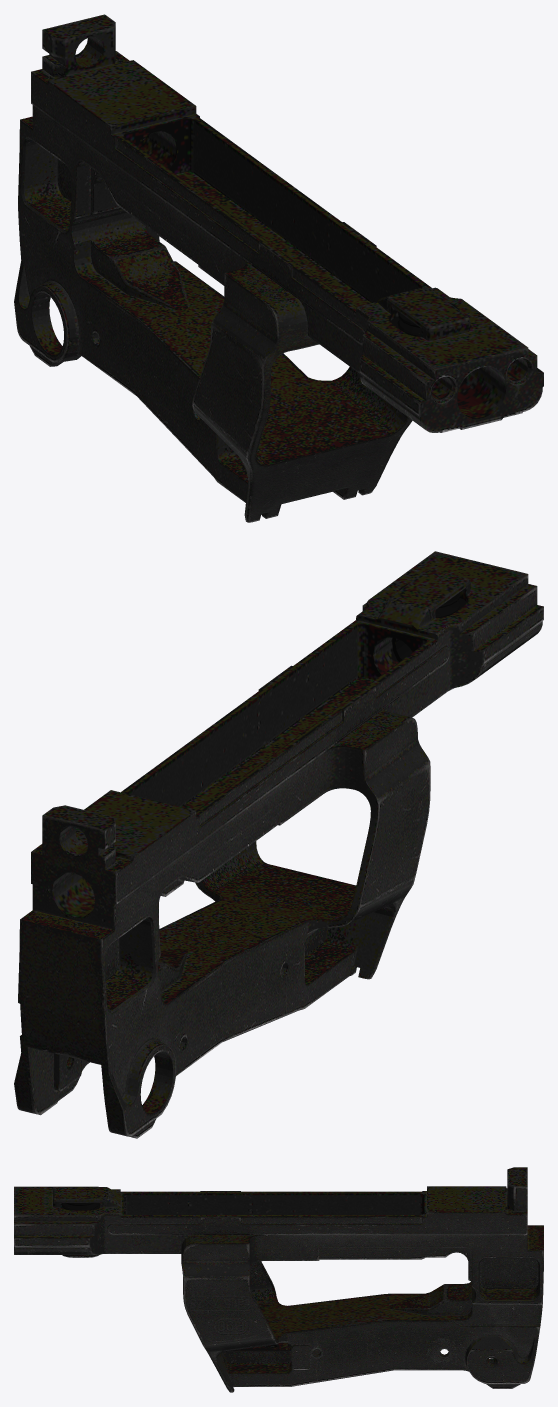
3 renders of one model, top to bottom at view 1: azimuth 30°, elevation 25°; view 2: azimuth 150°, elevation 25°; view 3: azimuth 270°, elevation 25°, orthographic. The views are drawn at different scales.
Parts seen in each view (by area): view 1: TW_5cc70102e4a949035e43ba74_PZ_Import; view 2: TW_5cc70102e4a949035e43ba74_PZ_Import; view 3: TW_5cc70102e4a949035e43ba74_PZ_Import.
Boxes of the visible parts, <box> form: TW_5cc70102e4a949035e43ba74_PZ_Import: <box>14,14,543,522</box>; TW_5cc70102e4a949035e43ba74_PZ_Import: <box>14,551,543,1138</box>; TW_5cc70102e4a949035e43ba74_PZ_Import: <box>14,1167,543,1392</box>.
Bounding box in the file's own units: 0.0341 × 0.1484 × 0.0607.
1 material, 1 textured.
